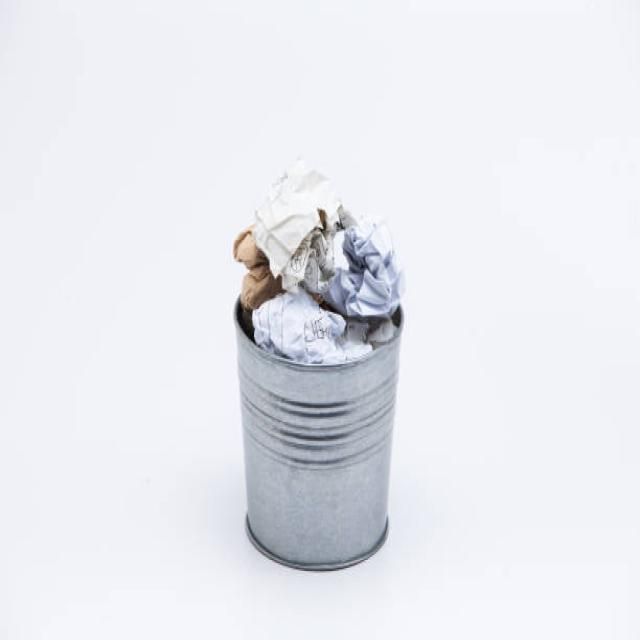metal: (228, 309, 418, 579)
paper: (236, 170, 394, 332)
